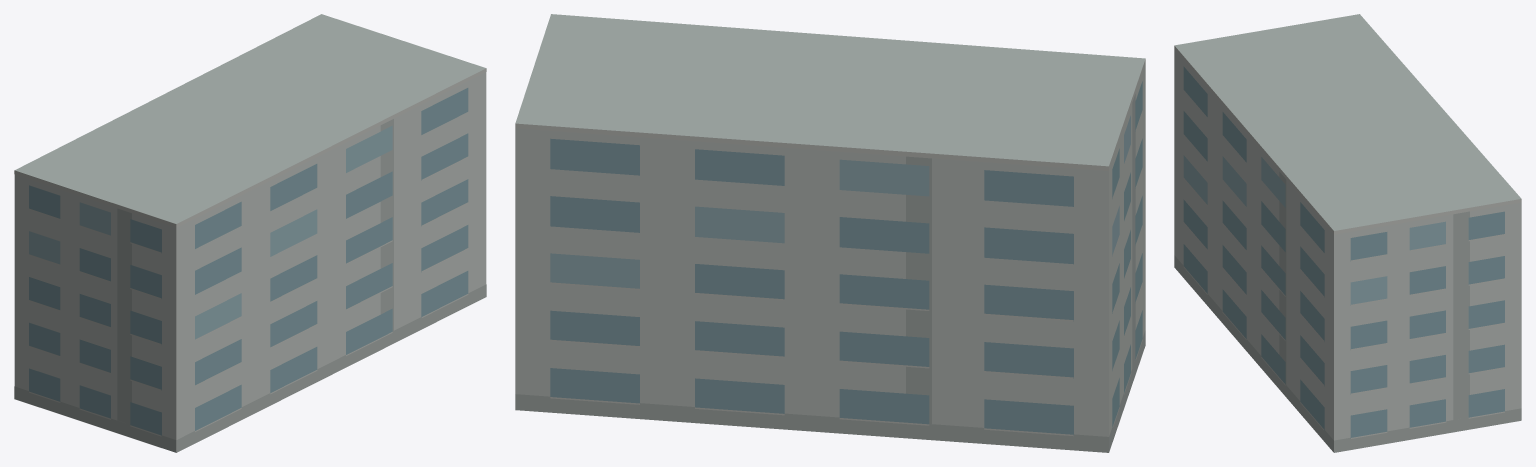
Rendered from survey-upis-32855834.glb.
3 renders of one model, left to right at view 1: azimuth 30°, elevation 25°; view 2: azimuth 150°, elevation 25°; view 3: azimuth 270°, elevation 25°, orthographic. The views are drawn at different scales.
Visible parts, largest first — view 1: survey-upis-32855834.tmp; view 2: survey-upis-32855834.tmp; view 3: survey-upis-32855834.tmp.
Part boxes in pixels (x1,y1,x2,y2): survey-upis-32855834.tmp: [14, 14, 486, 452]; survey-upis-32855834.tmp: [515, 14, 1145, 452]; survey-upis-32855834.tmp: [1174, 14, 1521, 452].
Size of the model in its own units: 30.22 by 14.4 by 20.44.
